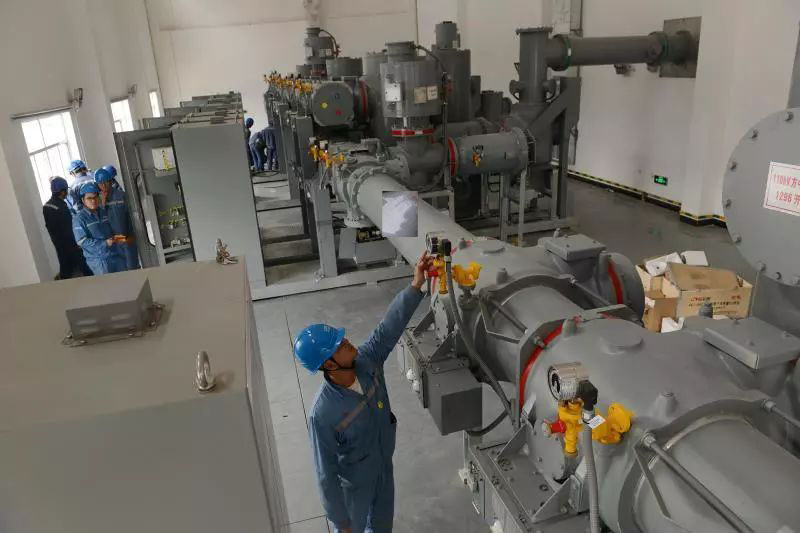oil: (382, 190, 420, 237)
